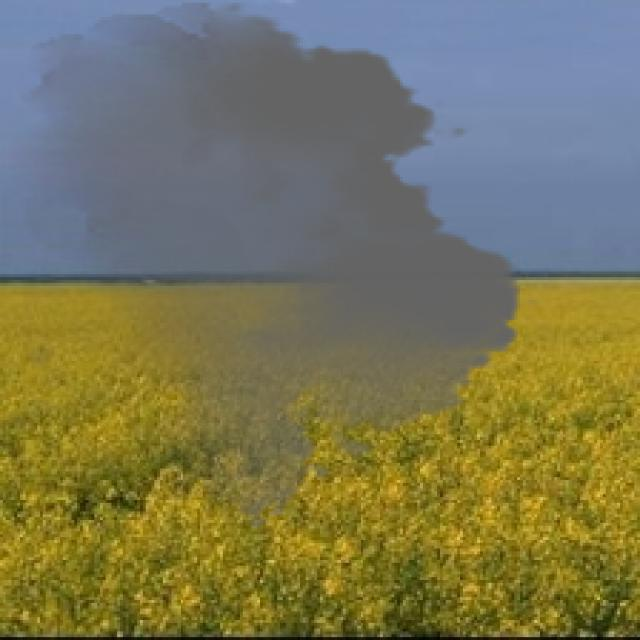smoke: (3, 3, 540, 531)
